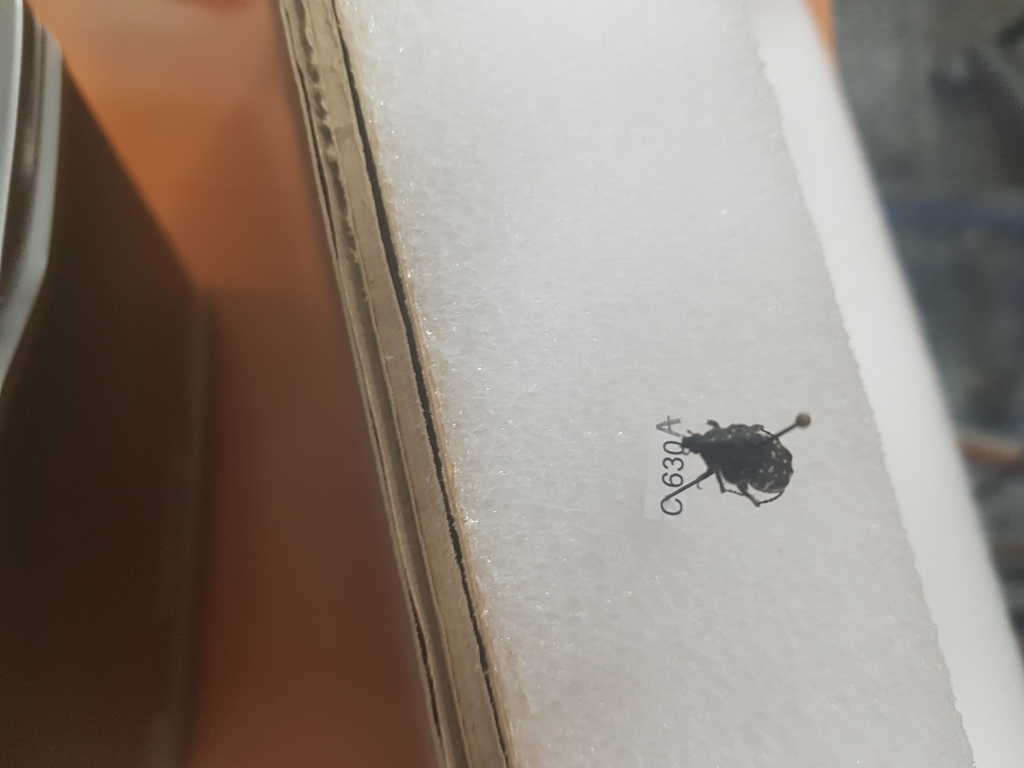Oxythyrea_albopicta: (671, 412, 799, 506)
